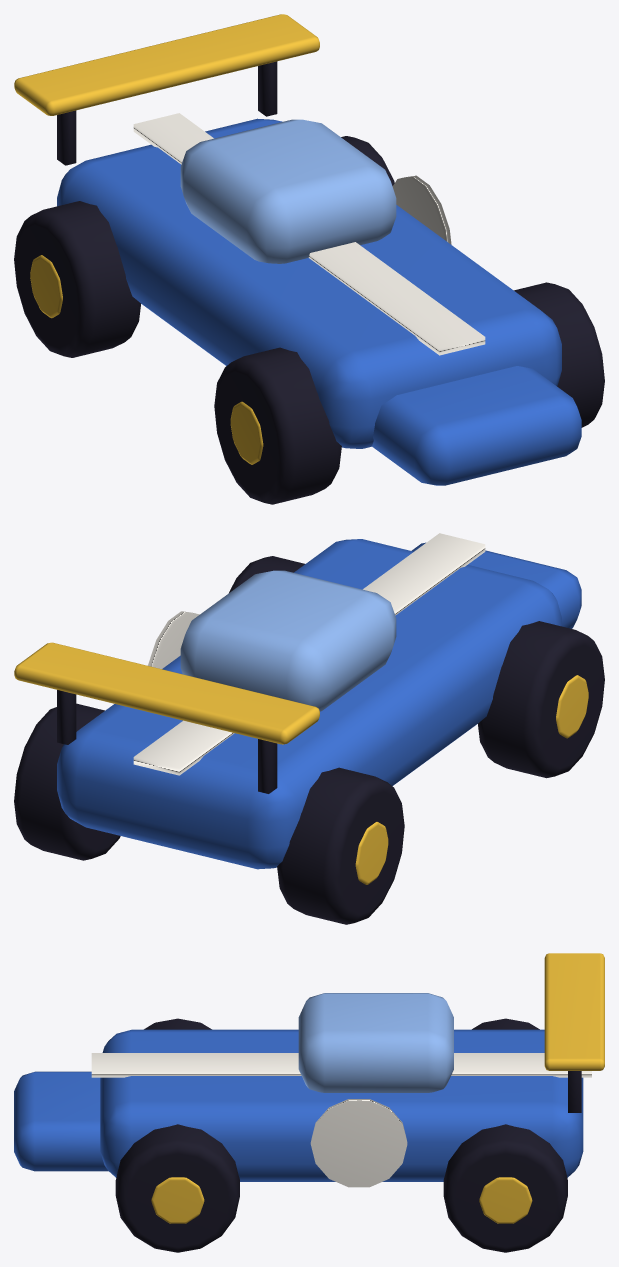
The model's file is toy_car_blue.glb.
3 renders of one model, top to bottom at view 1: azimuth 30°, elevation 25°; view 2: azimuth 150°, elevation 25°; view 3: azimuth 270°, elevation 25°, orthographic. The views are drawn at different scales.
Parts seen in each view (by area): view 1: toy_car_blue; view 2: toy_car_blue; view 3: toy_car_blue.
Part boxes in pixels (<box>): toy_car_blue: <box>14,14,604,504</box>; toy_car_blue: <box>14,533,604,924</box>; toy_car_blue: <box>14,953,604,1252</box>.
Bounding box in the file's own units: 1.8 × 1.19 × 3.42.
